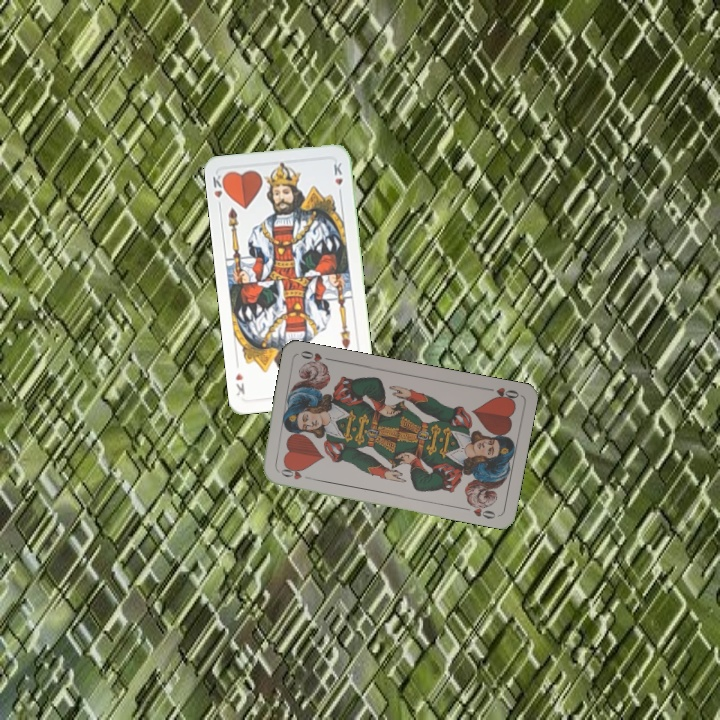HK: (208, 170, 229, 211)
HO: (482, 383, 521, 404), (274, 465, 315, 482)
